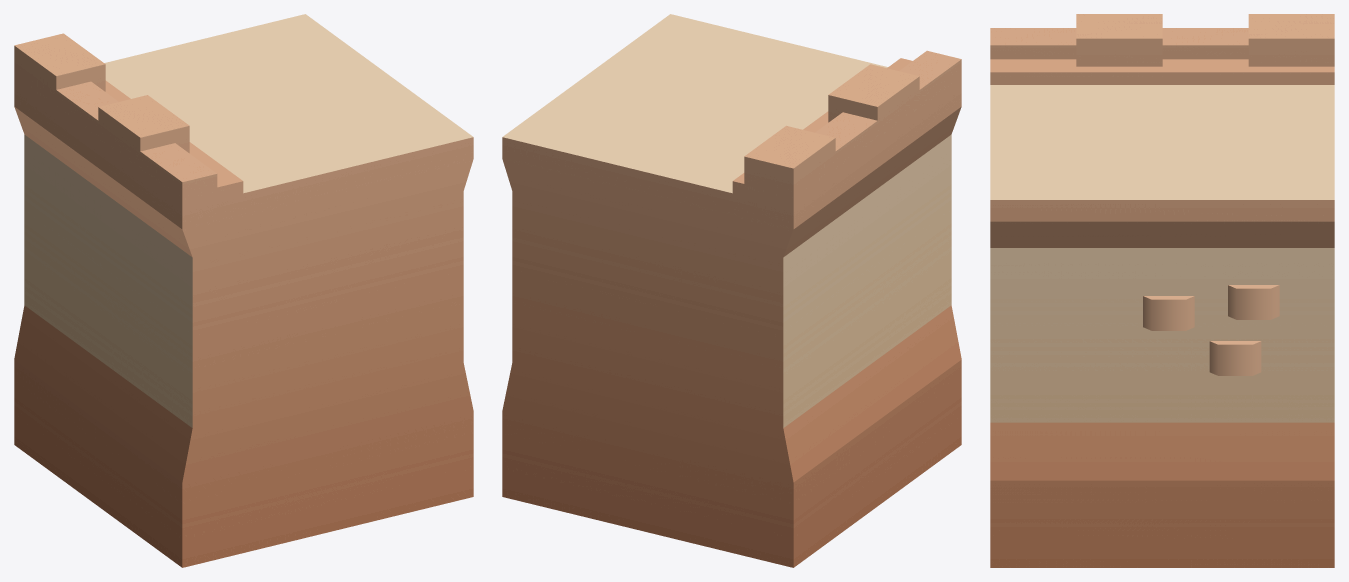
The model's file is wall-half.glb.
3 views of the same model, side by side, from view 1: azimuth 30°, elevation 25°; view 2: azimuth 150°, elevation 25°; view 3: azimuth 270°, elevation 25° (orthographic). The views are drawn at different scales.
Parts seen in each view (by area): view 1: wall-half; view 2: wall-half; view 3: wall-half.
Part boxes in pixels (box(x1,y1,x2,y2)): wall-half: box(14, 14, 473, 567); wall-half: box(502, 14, 961, 567); wall-half: box(990, 14, 1334, 567).
Bounding box in the file's own units: 1 × 1.31 × 1.
Materials: 1 (1 with a texture image).
